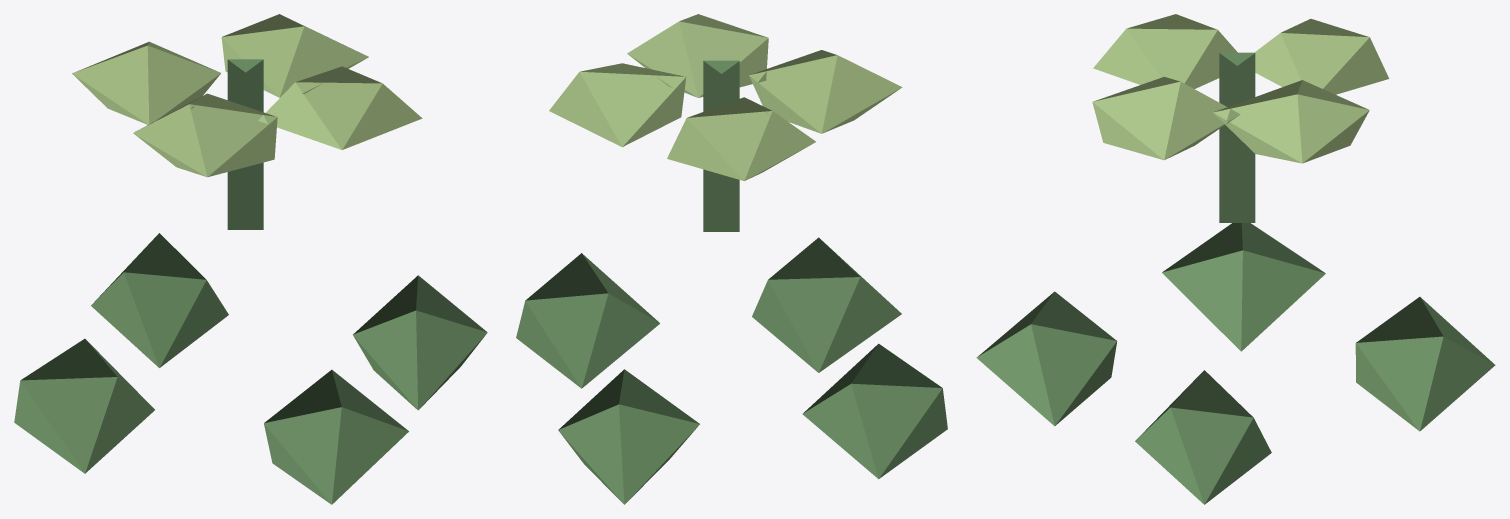
The model's file is shui.lian@subadult__spring.glb.
3 renders of one model, left to right at view 1: azimuth 30°, elevation 25°; view 2: azimuth 150°, elevation 25°; view 3: azimuth 270°, elevation 25°, orthographic.
Visible parts, largest first — view 1: shui.lian@subadult__spring; view 2: shui.lian@subadult__spring; view 3: shui.lian@subadult__spring.
Boxes of the visible parts, x1=… form: shui.lian@subadult__spring: x1=14, y1=14, x2=487, y2=504; shui.lian@subadult__spring: x1=516, y1=14, x2=947, y2=504; shui.lian@subadult__spring: x1=976, y1=14, x2=1495, y2=504.
Bounding box in the file's own units: 0.5973 × 0.4879 × 0.6018.
